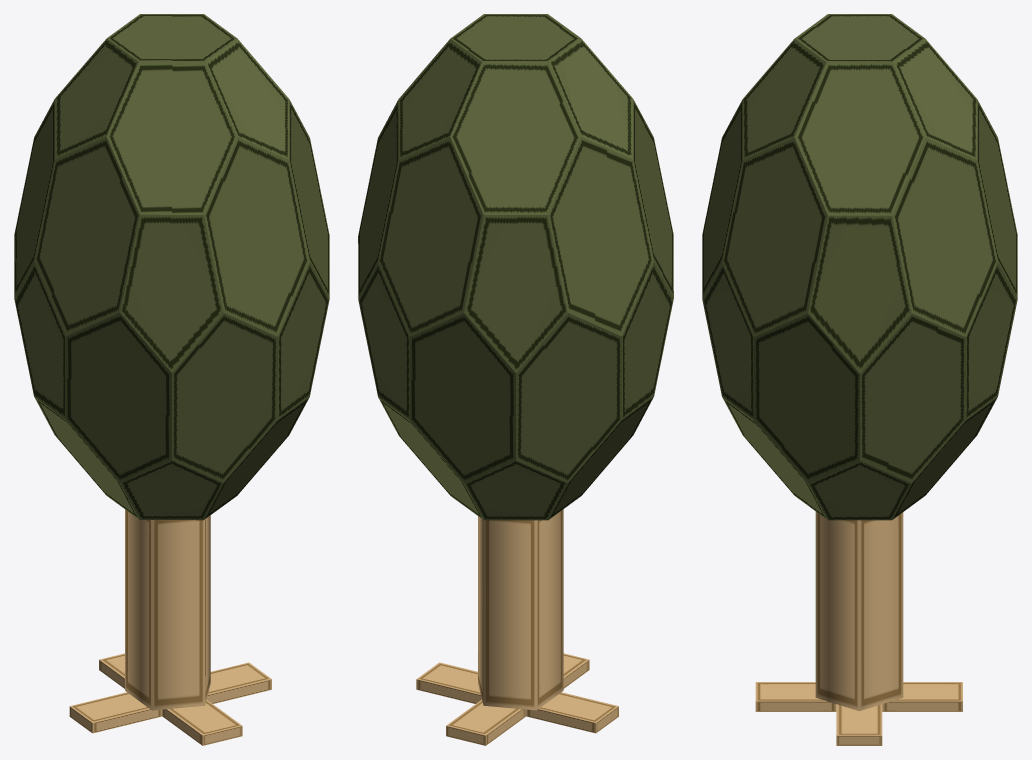
Rendered from Tree016.FBX.
The picture shows the model from 3 angles, left to right: view 1: azimuth 30°, elevation 25°; view 2: azimuth 150°, elevation 25°; view 3: azimuth 270°, elevation 25°; orthographic projection.
Parts seen in each view (by area): view 1: tree016; view 2: tree016; view 3: tree016.
Part boxes in pixels (x1,y1,x2,y2): tree016: (14, 14, 329, 745); tree016: (358, 14, 673, 745); tree016: (702, 14, 1017, 745).
Bounding box in the file's own units: 138 × 318 × 137.
1 material, 1 textured.
